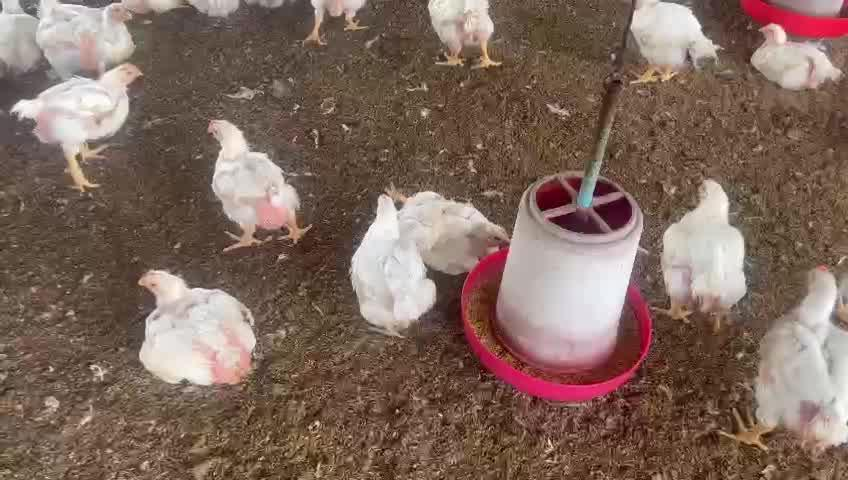AbNormal: (383, 172, 514, 272), (741, 19, 845, 90)
Normal: (745, 259, 848, 459), (129, 264, 270, 395), (18, 56, 150, 189), (189, 112, 314, 252), (651, 174, 751, 339), (345, 195, 430, 328), (30, 1, 144, 81), (629, 0, 726, 88), (420, 0, 521, 76)
